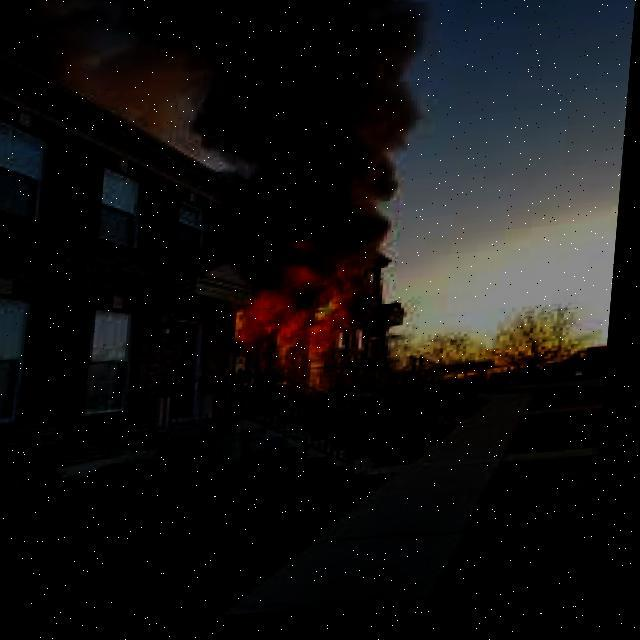Fire: (206, 232, 412, 421)
